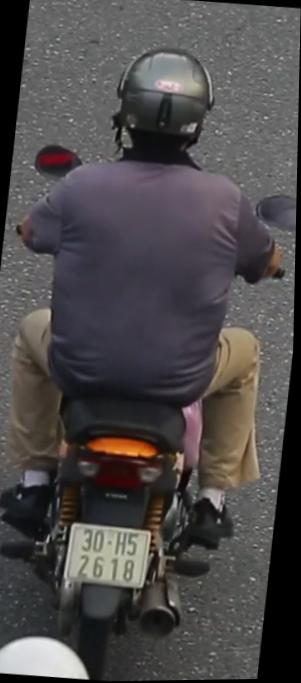LP: (62, 516, 157, 596)
helmet: (102, 33, 220, 179)
